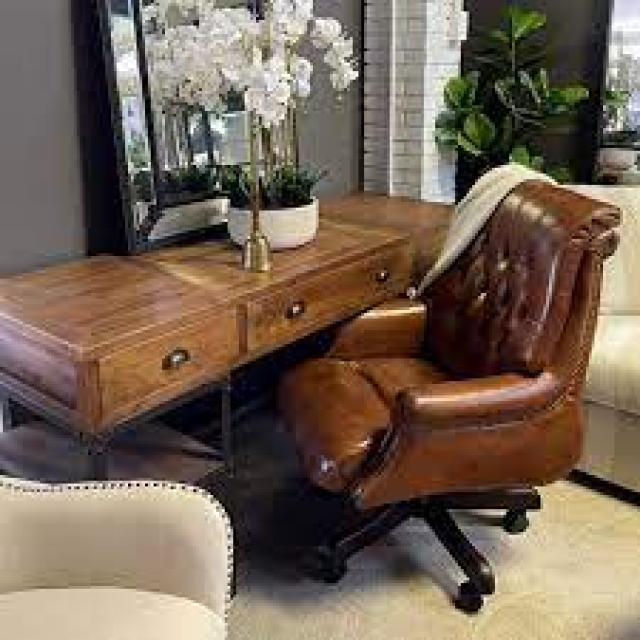chair: (239, 140, 621, 640), (0, 443, 234, 639)
